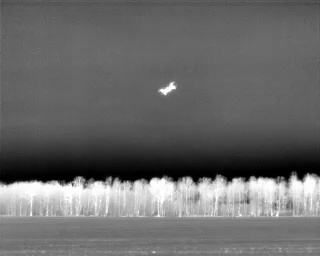DRONE: (155, 77, 181, 99)
